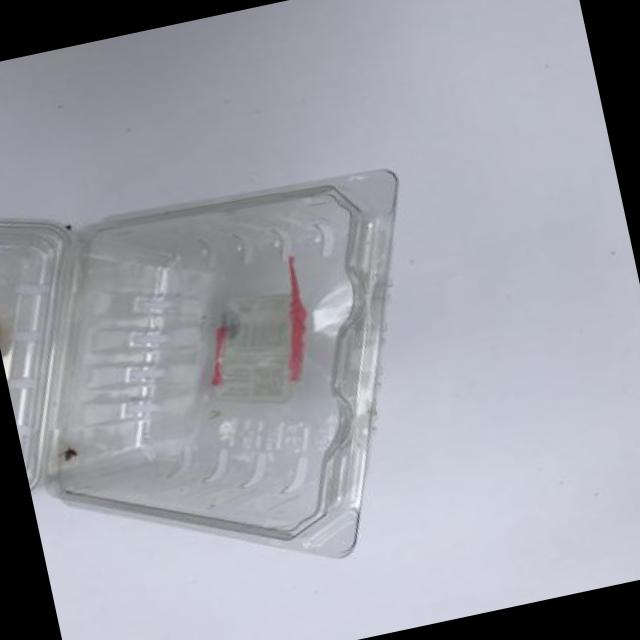Clamshell: (0, 109, 486, 630)
